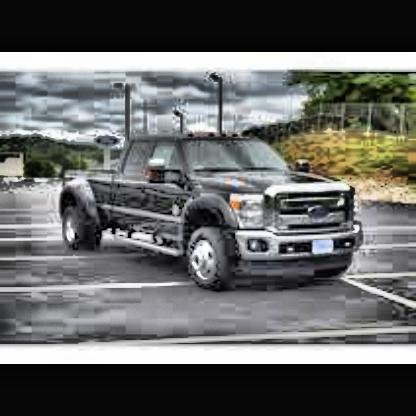Ford F-450 Super Duty Crew Cab 2012: (63, 137, 365, 295)
